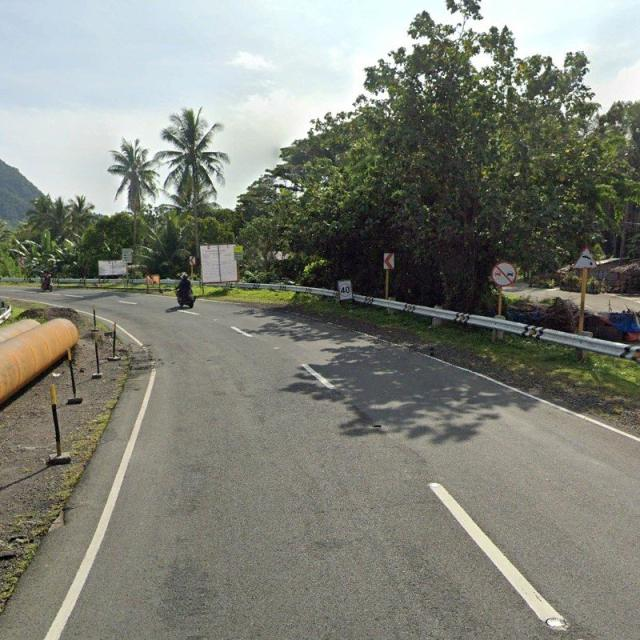warn_left_curve: (572, 247, 599, 269)
